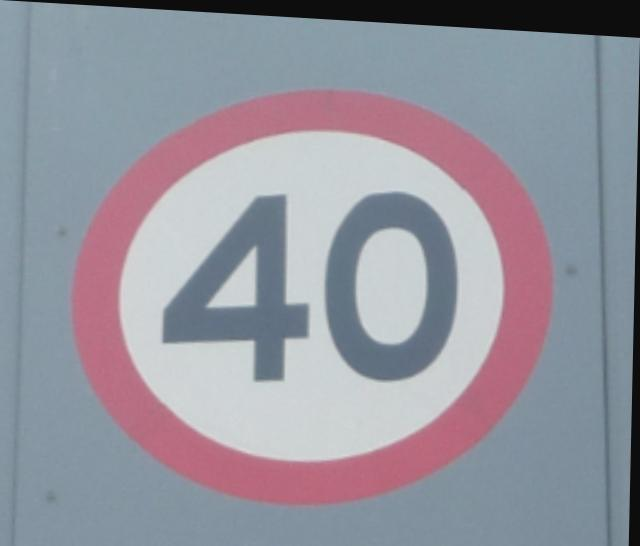limit40: (61, 65, 565, 520)
